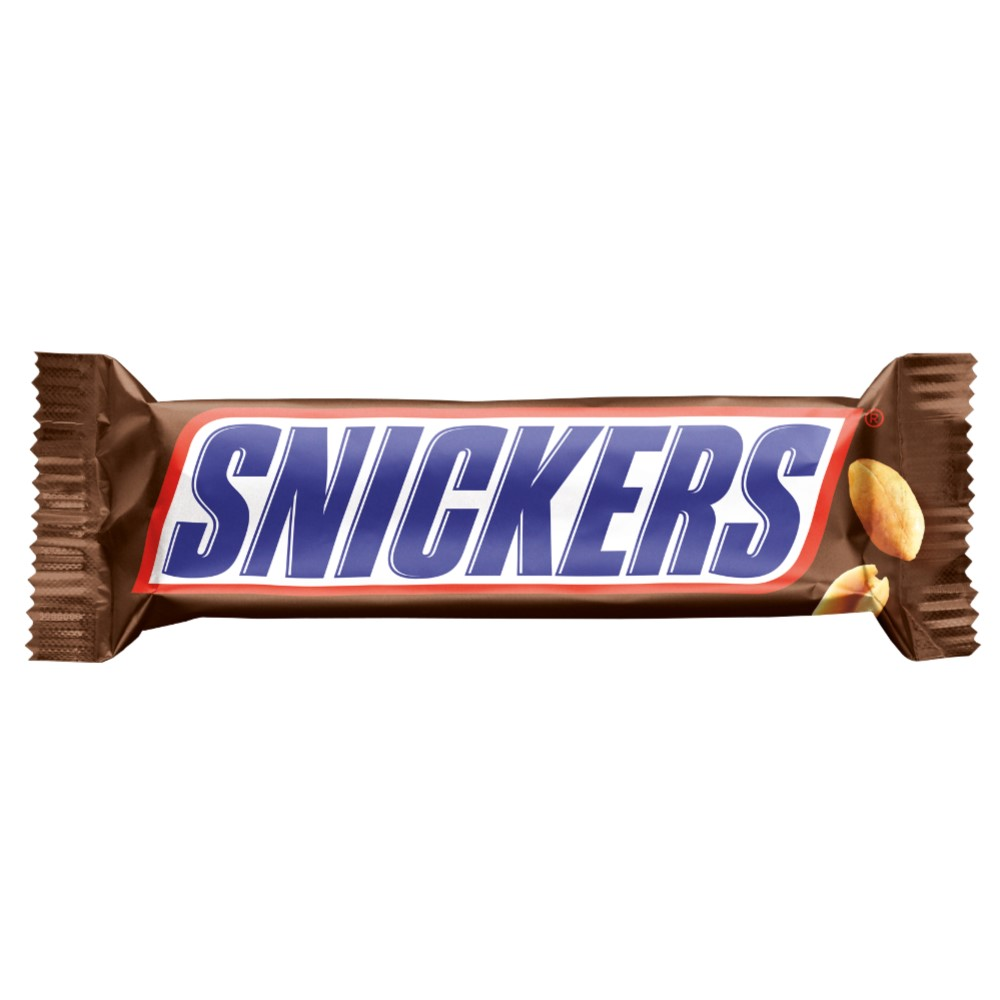snickers: (157, 421, 834, 577)
